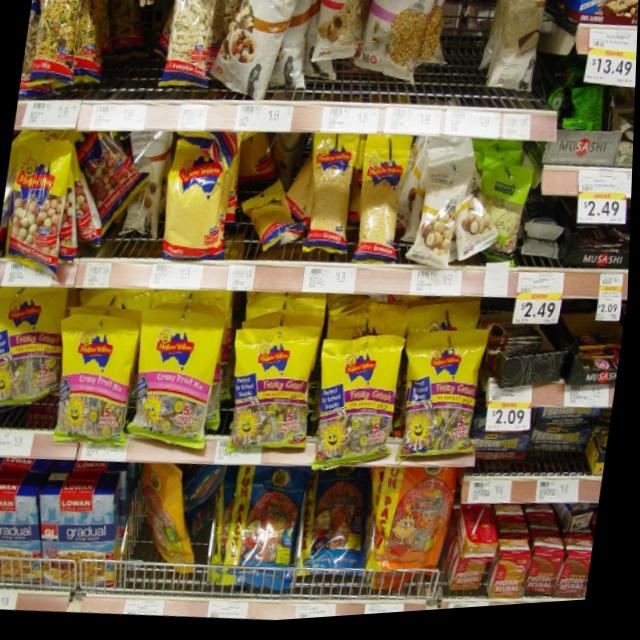q133: (37, 485, 127, 610), (0, 477, 54, 605)
q88: (0, 134, 88, 280)
